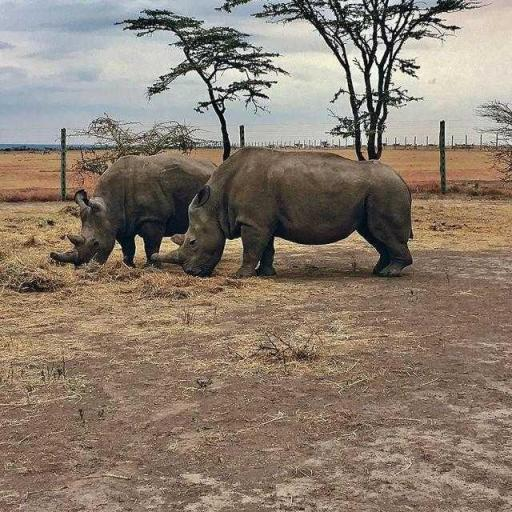Rhino: (148, 146, 414, 279), (49, 148, 219, 270)
